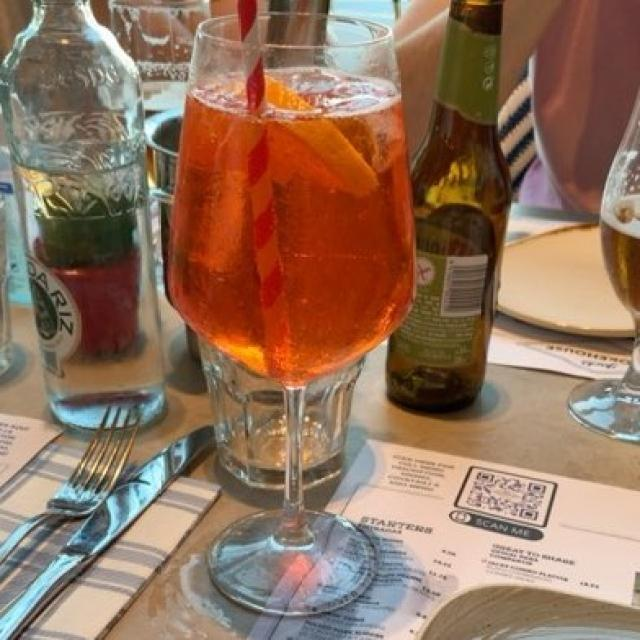aperol-spritz: (167, 107, 406, 381)
